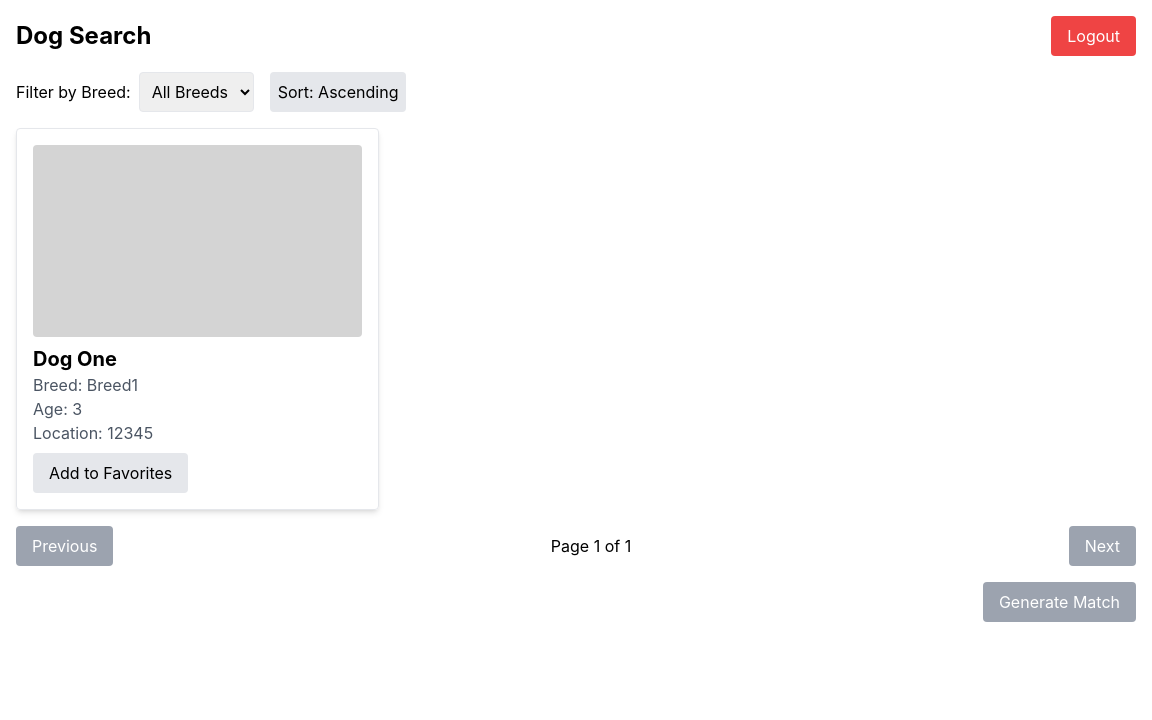
SearchPage › allows user to add and remove favorites
The width and height of the screenshot is (1152, 720).
Expected: the heading "Dog One" is shown, [33,347,117,371]
Click the button "Add to Favorites": (111, 473) [33,453,188,493]
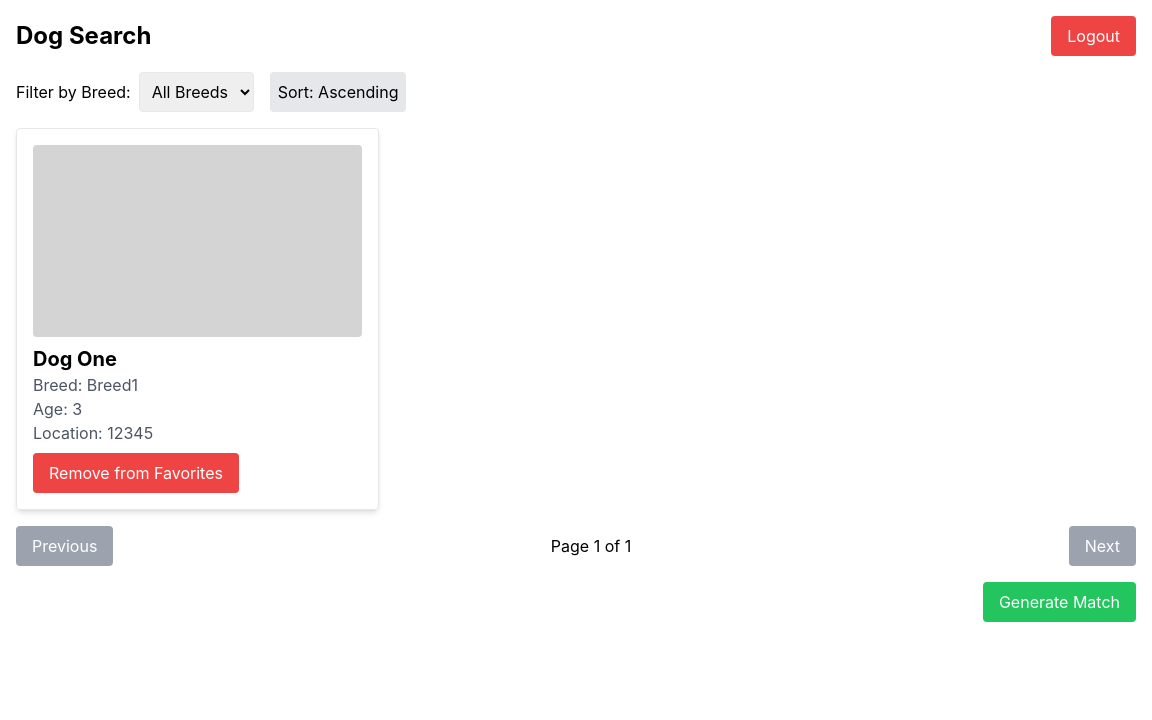
Now the button "Add to Favorites" reads "Remove from Favorites"
Click the button "Add to Favorites": (136, 473) [33,453,239,493]
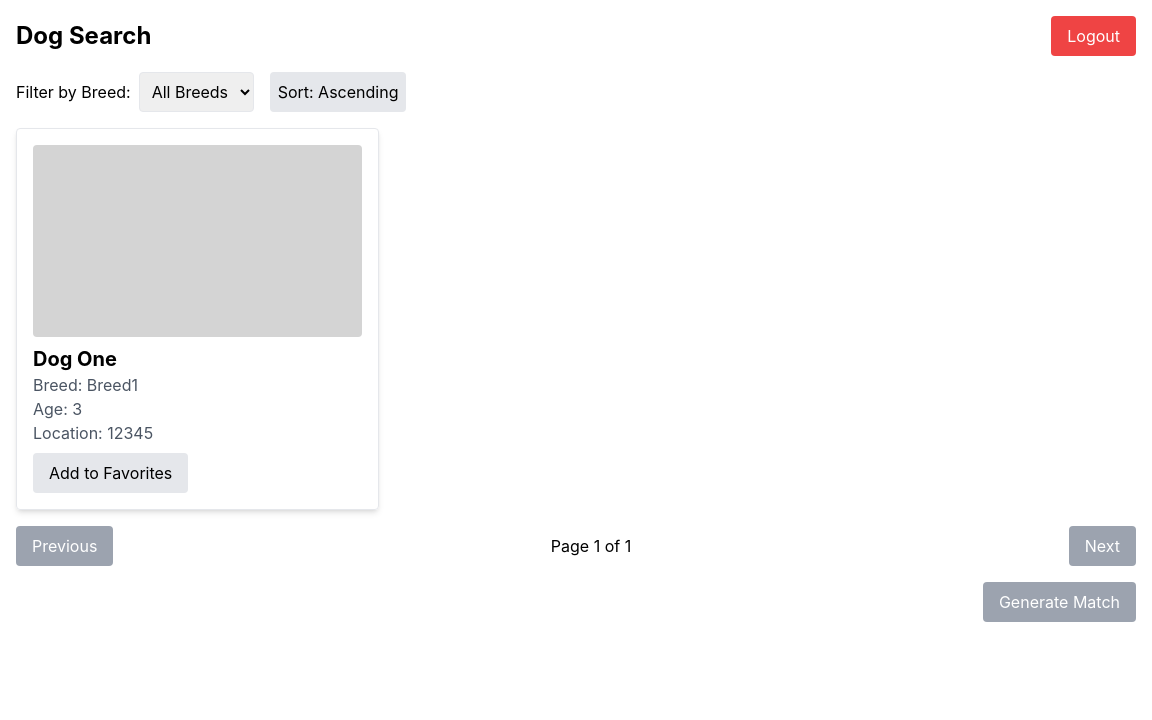
Now the button "Add to Favorites" is shown, box [33,453,188,493]
